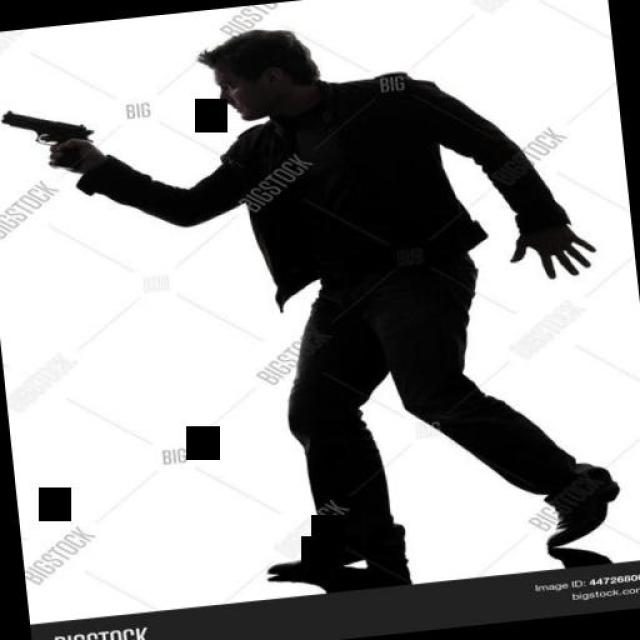gun: (0, 100, 96, 174)
